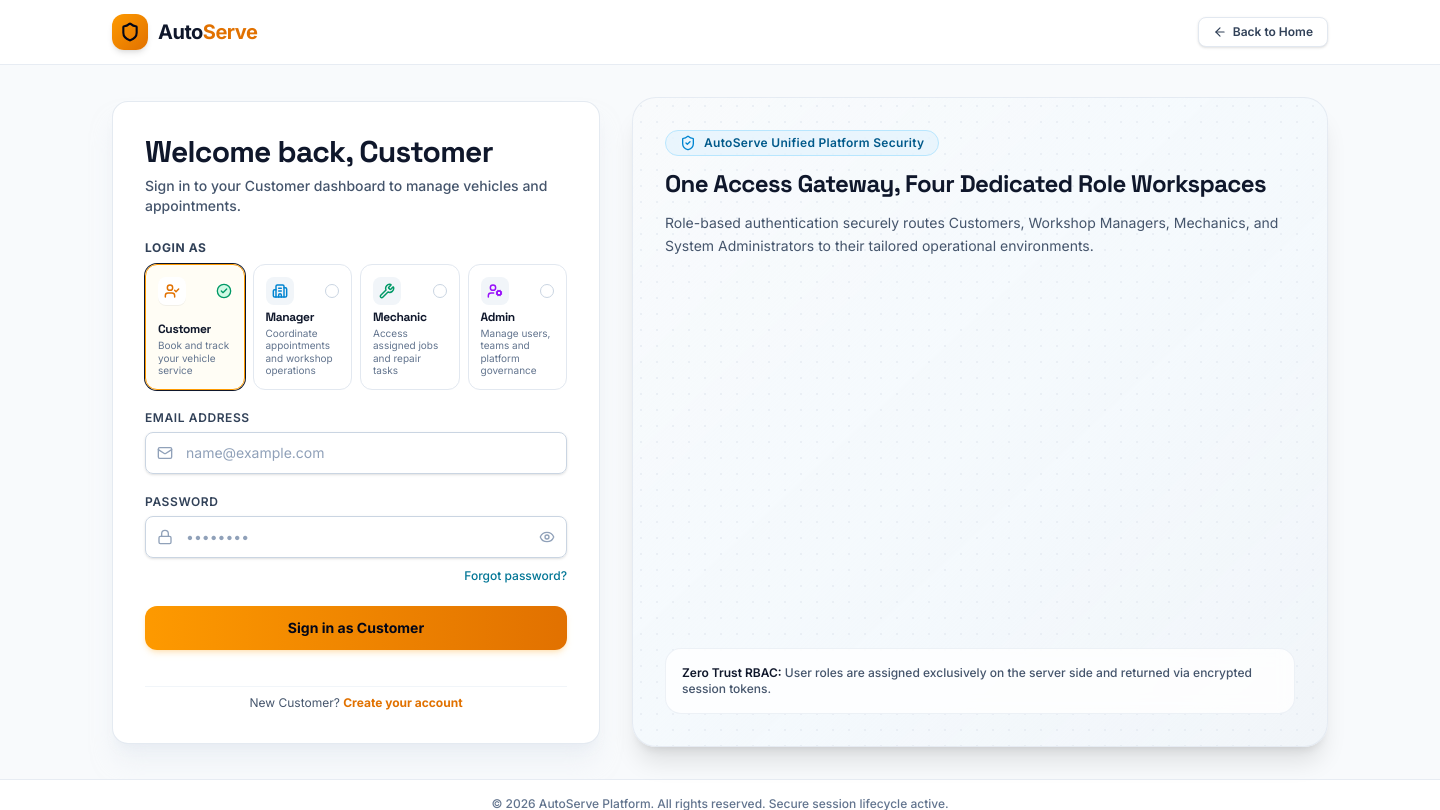
LoginPage Four-Role Selector & Security Tests › 4. Mechanic role card can be selected by mouse
Click the radio button with aria-label "Mechanic —": (410, 326) [360, 264, 460, 390]
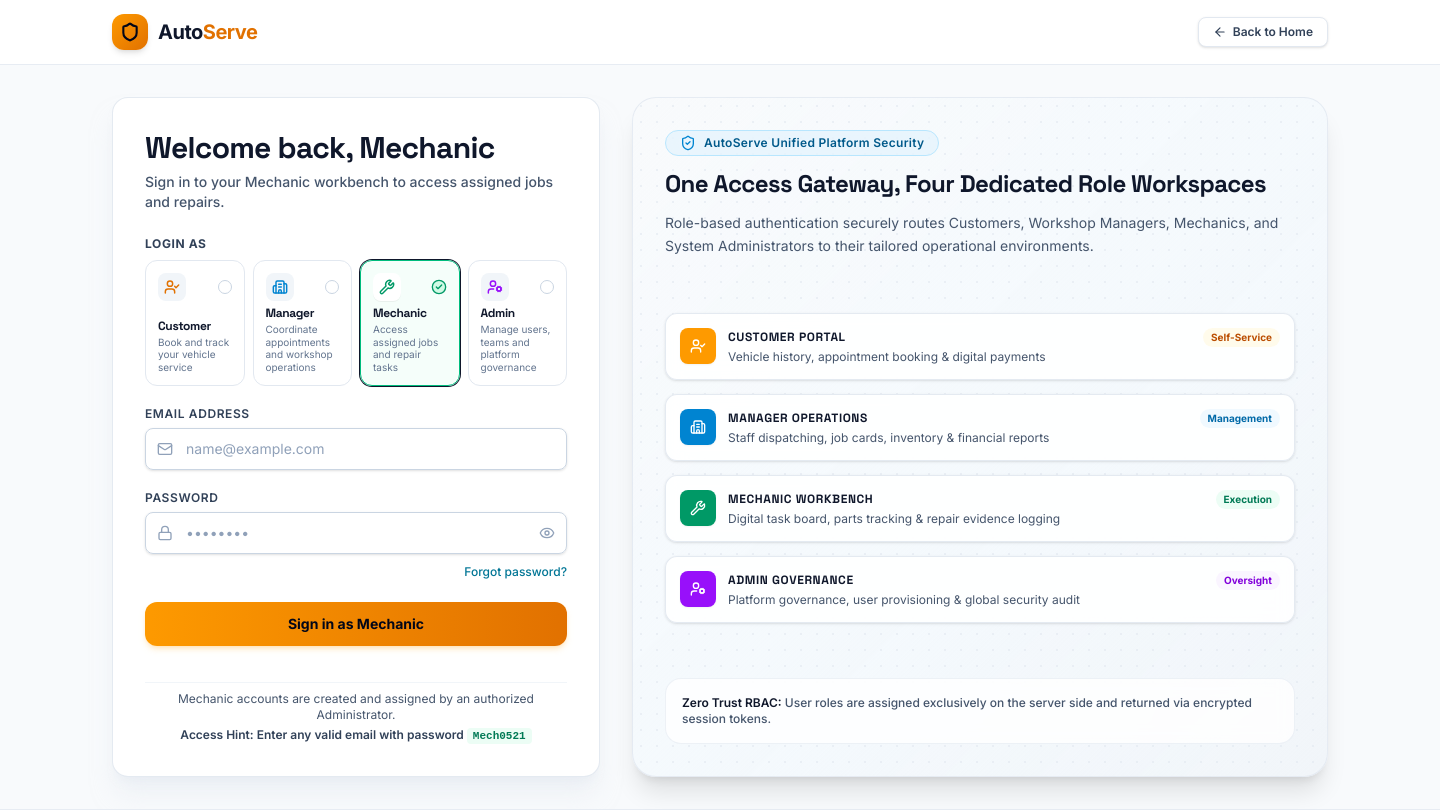
Check: the button "Sign in as Mechanic" is shown, box [145, 602, 567, 646]
